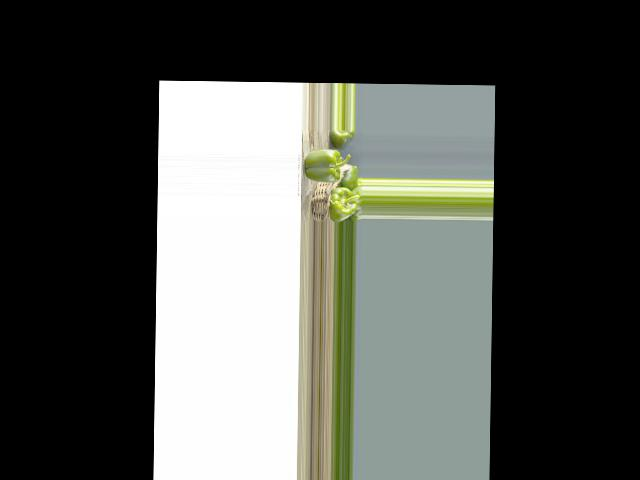bell_pepper: (333, 129, 354, 143)
